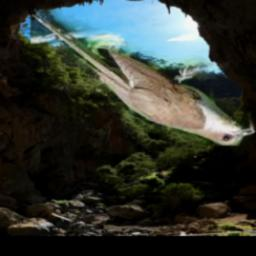Cuckoo: (30, 9, 255, 146)
